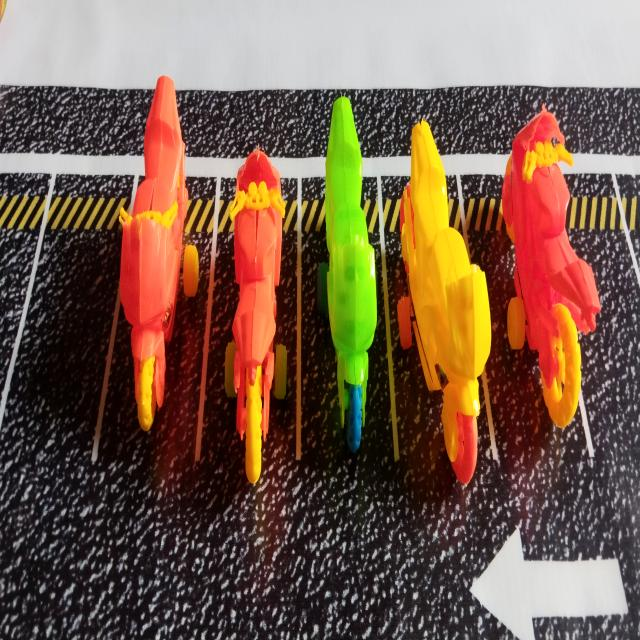occupied: (93, 76, 210, 484), (482, 112, 600, 472), (393, 121, 496, 509), (302, 97, 399, 466), (195, 146, 301, 483)
slots: (3, 232, 120, 460), (571, 231, 640, 472)
